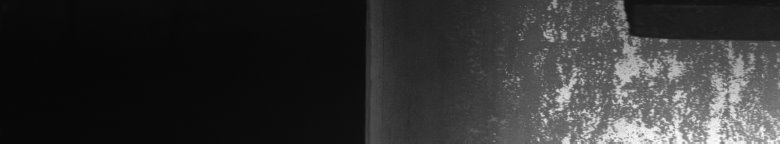kb: (503, 4, 776, 136)
